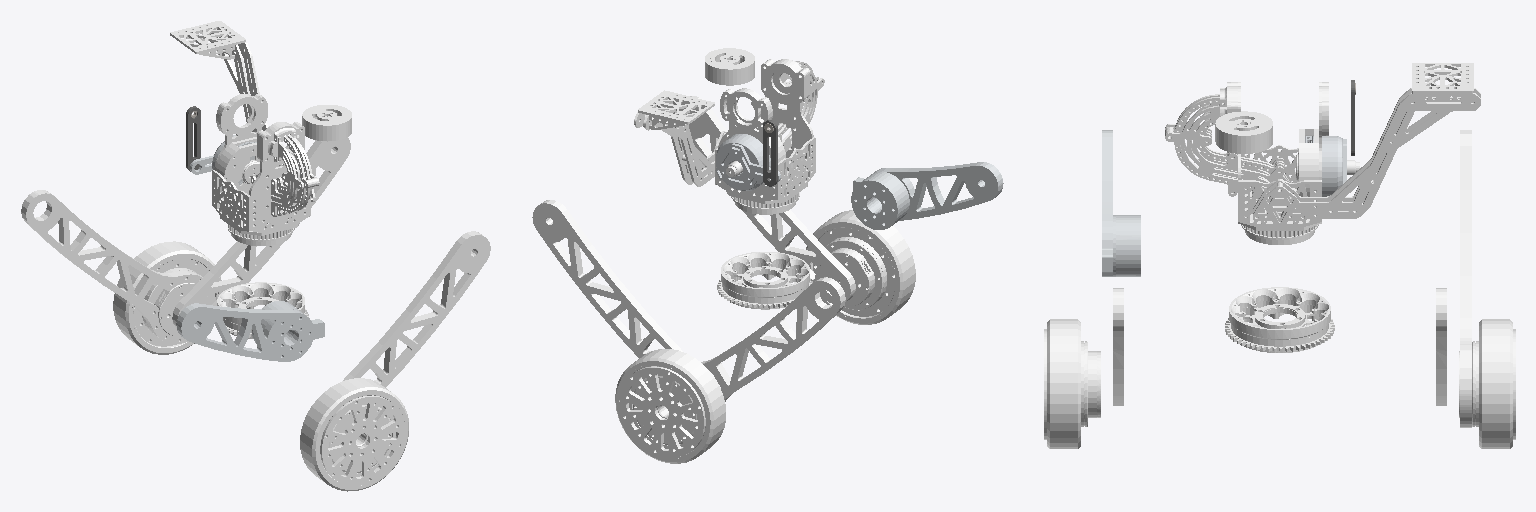
URDF robot description (RMInfantry_Complation_Vision.SLDASM):
<?xml version='1.0' encoding='utf-8'?>
<robot name="RMInfantry_Complation_Vision.SLDASM">
  <mujoco>
    <compiler meshdir="../meshes/" balanceinertia="true" discardvisual="false" />
  </mujoco>
  
  <link name="world" />
  <!-- <joint name="floating_base_joint" type="floating">
    <parent link="world" />
    <child link="base_link" />
  </joint> -->
  <joint name="world_to_base" type="fixed">
    <parent link="world"/>
    <child link="base_link"/>
    <origin xyz="0 0 0" rpy="0 0 0"/>
  </joint>
  
  <link name="base_link">
    <inertial>
      <origin xyz="-0.003111 0.0015208 0.10627" rpy="0 0 0" />
      <mass value="16.77493621" />
      <inertia ixx="0.018047" ixy="6.8169E-06" ixz="-9.2205E-06" iyy="0.05196" iyz="1.6151E-05" izz="0.05484" />
    </inertial>
    <visual>
      <origin xyz="0 0 0" rpy="0 0 0" />
      <geometry>
        <mesh filename="../meshes/base_link.STL" />
      </geometry>
      <material name="">
        <color rgba="0.50196 0.50196 0.50196 1" />
      </material>
    </visual>
    <collision>
      <origin xyz="0 0 0" rpy="0 0 0" />
      <geometry>
        <mesh filename="../meshes/base_link.STL" />
      </geometry>
    </collision>
  </link>
  <link name="left_front_hip_link">
    <inertial>
      <origin xyz="0.032281 0.032438 0.011151" rpy="0 0 0" />
      <mass value="0.25279841" />
      <inertia ixx="0.00013252" ixy="-5.8425E-19" ixz="-0.00014865" iyy="0.00064137" iyz="3.8933E-18" izz="0.00052206" />
    </inertial>
    <visual>
      <origin xyz="0 0 0" rpy="0 0 0" />
      <geometry>
        <mesh filename="../meshes/left_front_hip_link.STL" />
      </geometry>
      <material name="">
        <color rgba="0.89804 0.91373 0.92549 1" />
      </material>
    </visual>
    <collision>
      <origin xyz="0 0 0" rpy="0 0 0" />
      <geometry>
        <mesh filename="../meshes/left_front_hip_link.STL" />
      </geometry>
    </collision>
  </link>
  <joint name="left_front_hip_joint" type="continuous">
    <origin xyz="0.065 0.1423 0.127" rpy="0 0 0" />
    <parent link="base_link" />
    <child link="left_front_hip_link" />
    <axis xyz="0 1 0" />
  </joint>
  <link name="left_front_knee_link">
    <inertial>
      <origin xyz="-0.089345 0.006 -0.086713" rpy="0 0 0" />
      <mass value="0.21937234" />
      <inertia ixx="0.00085145" ixy="-3.8325E-18" ixz="-0.00087832" iyy="0.0018691" iyz="-9.3363E-21" izz="0.0010229" />
    </inertial>
    <visual>
      <origin xyz="0 0 0" rpy="0 0 0" />
      <geometry>
        <mesh filename="../meshes/left_front_knee_link.STL" />
      </geometry>
      <material name="">
        <color rgba="1 1 1 1" />
      </material>
    </visual>
    <collision>
      <origin xyz="0 0 0" rpy="0 0 0" />
      <geometry>
        <mesh filename="../meshes/left_front_knee_link.STL" />
      </geometry>
    </collision>
  </link>
  <joint name="left_front_knee_joint" type="continuous">
    <origin xyz="0.12968 0.0194 0.047199" rpy="0 0 0" />
    <parent link="left_front_hip_link" />
    <child link="left_front_knee_link" />
    <axis xyz="0 1 0" />
  </joint>
  
  
  <link name="left_rear_hip_link">
    <inertial>
      <origin xyz="-0.0369979002010859 0.0309982603546195 0.0127965807004653" rpy="0 0 0" />
      <mass value="0.25816986" />
      <inertia ixx="0.000140702499108914" ixy="3.36923885329177E-19" ixz="0.000174370684953426" iyy="0.000715454259986006" iyz="-2.87113325481111E-18" izz="0.00058595009125451" />
    </inertial>
    <visual>
      <origin xyz="0 0 0" rpy="0 0 0" />
      <geometry>
        <mesh filename="../meshes/left_rear_hip_link.STL" />
      </geometry>
      <material name="">
        <color rgba="0.898039215686275 0.913725490196078 0.925490196078431 1" />
      </material>
    </visual>
    <collision>
      <origin xyz="0 0 0" rpy="0 0 0" />
      <geometry>
        <mesh filename="../meshes/left_rear_hip_link.STL" />
      </geometry>
    </collision>
  </link>
  <joint name="left_rear_hip_joint" type="continuous">
    <origin xyz="-0.065 0.1423 0.127" rpy="0 0 0" />
    <parent link="base_link" />
    <child link="left_rear_hip_link" />
    <axis xyz="0 1 0" />
  </joint>
  <link name="left_rear_knee_link">
    <inertial>
      <origin xyz="0.10163 0.02 -0.097327" rpy="0 0 0" />
      <mass value="0.22140128" />
      <inertia ixx="0.00094302" ixy="-2.1222E-17" ixz="0.00095354" iyy="0.0021043" iyz="-1.955E-17" izz="0.0011666" />
    </inertial>
    <visual>
      <origin xyz="0 0 0" rpy="0 0 0" />
      <geometry>
        <mesh filename="../meshes/left_rear_knee_link.STL" />
      </geometry>
      <material name="">
        <color rgba="1 1 1 1" />
      </material>
    </visual>
    <collision>
      <origin xyz="0 0 0" rpy="0 0 0" />
      <geometry>
        <mesh filename="../meshes/left_rear_knee_link.STL" />
      </geometry>
    </collision>
  </link>
  <joint name="left_rear_knee_joint" type="continuous">
    <origin xyz="-0.12968 0.0309 0.047199" rpy="0 0 0" />
    <parent link="left_rear_hip_link" />
    <child link="left_rear_knee_link" />
    <axis xyz="0 1 0" />
  </joint>
  <link name="left_chassis_wheel_link">
    <inertial>
      <origin xyz="-5.5954E-06 0.036068 -3.5474E-06" rpy="0 0 0" />
      <mass value="1.24506308" />
      <inertia ixx="0.0006003" ixy="3.2833E-08" ixz="1.2544E-08" iyy="0.0011204" iyz="-2.7525E-09" izz="0.0006003" />
    </inertial>
    <visual>
      <origin xyz="0 0 0" rpy="0 0 0" />
      <geometry>
        <mesh filename="../meshes/left_chassis_wheel_link.STL" />
      </geometry>
      <material name="">
        <color rgba="1 1 1 1" />
      </material>
    </visual>
    <collision>
      <origin xyz="0 0 0" rpy="0 0 0" />
      <geometry>
        <mesh filename="../meshes/left_chassis_wheel_link.STL" />
      </geometry>
    </collision>
  </link>
  <joint name="left_chassis_wheel_joint" type="continuous">
    <origin xyz="0.19468 0.013 -0.17534" rpy="0 0 0" />
    <parent link="left_rear_knee_link" />
    <child link="left_chassis_wheel_link" />
    <axis xyz="0 1 0" />
  </joint>
  
  <link name="right_front_hip_link">
    <inertial>
      <origin xyz="0.032281 -0.032438 0.011151" rpy="0 0 0" />
      <mass value="0.25279841" />
      <inertia ixx="0.00013252" ixy="-2.9699E-18" ixz="-0.00014865" iyy="0.00064137" iyz="3.4055E-18" izz="0.00052206" />
    </inertial>
    <visual>
      <origin xyz="0 0 0" rpy="0 0 0" />
      <geometry>
        <mesh filename="../meshes/right_front_hip_link.STL" />
      </geometry>
      <material name="">
        <color rgba="1 1 1 1" />
      </material>
    </visual>
    <collision>
      <origin xyz="0 0 0" rpy="0 0 0" />
      <geometry>
        <mesh filename="../meshes/right_front_hip_link.STL" />
      </geometry>
    </collision>
  </link>
  <joint name="right_front_hip_joint" type="continuous">
    <origin xyz="0.065000010549327 -0.142300000000003 0.127000001012436" rpy="0 0 0" />
    <parent link="base_link" />
    <child link="right_front_hip_link" />
    <axis xyz="0 -1 0" />
  </joint>
  <link name="right_front_knee_link">
    <inertial>
      <origin xyz="-0.089345 -0.006 -0.086713" rpy="0 0 0" />
      <mass value="0.21937234" />
      <inertia ixx="0.00085145" ixy="1.8229E-18" ixz="-0.00087832" iyy="0.0018691" iyz="1.675E-18" izz="0.0010229" />
    </inertial>
    <visual>
      <origin xyz="0 0 0" rpy="0 0 0" />
      <geometry>
        <mesh filename="../meshes/right_front_knee_link.STL" />
      </geometry>
      <material name="">
        <color rgba="1 1 1 1" />
      </material>
    </visual>
    <collision>
      <origin xyz="0 0 0" rpy="0 0 0" />
      <geometry>
        <mesh filename="../meshes/right_front_knee_link.STL" />
      </geometry>
    </collision>
  </link>
  <joint name="right_front_knee_joint" type="continuous">
    <origin xyz="0.12968 -0.0194 0.047199" rpy="0 0 0" />
    <parent link="right_front_hip_link" />
    <child link="right_front_knee_link" />
    <axis xyz="0 -1 0" />
  </joint>
  
  
  <link name="right_rear_hip_link">
    <inertial>
      <origin xyz="-0.036998 -0.030998 0.012797" rpy="0 0 0" />
      <mass value="0.25816986" />
      <inertia ixx="0.0001407" ixy="-2.4611E-18" ixz="0.00017437" iyy="0.00071545" iyz="-1.1802E-18" izz="0.00058595" />
    </inertial>
    <visual>
      <origin xyz="0 0 0" rpy="0 0 0" />
      <geometry>
        <mesh filename="../meshes/right_rear_hip_link.STL" />
      </geometry>
      <material name="">
        <color rgba="0.89804 0.91373 0.92549 1" />
      </material>
    </visual>
    <collision>
      <origin xyz="0 0 0" rpy="0 0 0" />
      <geometry>
        <mesh filename="../meshes/right_rear_hip_link.STL" />
      </geometry>
    </collision>
  </link>
  <joint name="right_rear_hip_joint" type="continuous">
    <origin xyz="-0.065 -0.1423 0.127" rpy="0 0 0" />
    <parent link="base_link" />
    <child link="right_rear_hip_link" />
    <axis xyz="0 -1 0" />
  </joint>
  <link name="right_rear_knee_link">
    <inertial>
      <origin xyz="0.10163 -0.02 -0.097327" rpy="0 0 0" />
      <mass value="0.22140128" />
      <inertia ixx="0.00094302" ixy="-1.7521E-17" ixz="0.00095354" iyy="0.0021043" iyz="-2.4388E-17" izz="0.0011666" />
    </inertial>
    <visual>
      <origin xyz="0 0 0" rpy="0 0 0" />
      <geometry>
        <mesh filename="../meshes/right_rear_knee_link.STL" />
      </geometry>
      <material name="">
        <color rgba="1 1 1 1" />
      </material>
    </visual>
    <collision>
      <origin xyz="0 0 0" rpy="0 0 0" />
      <geometry>
        <mesh filename="../meshes/right_rear_knee_link.STL" />
      </geometry>
    </collision>
  </link>
  <joint name="right_rear_knee_joint" type="continuous">
    <origin xyz="-0.12968 -0.0309 0.047199" rpy="0 0 0" />
    <parent link="right_rear_hip_link" />
    <child link="right_rear_knee_link" />
    <axis xyz="0 -1 0" />
  </joint>
  <link name="right_chassis_wheel_link">
    <inertial>
      <origin xyz="1.7764E-06 -0.036068 6.3825E-06" rpy="0 0 0" />
      <mass value="1.24506308" />
      <inertia ixx="0.00060029" ixy="-1.2136E-08" ixz="8.6961E-09" iyy="0.0011204" iyz="3.0631E-08" izz="0.00060031" />
    </inertial>
    <visual>
      <origin xyz="0 0 0" rpy="0 0 0" />
      <geometry>
        <mesh filename="../meshes/right_chassis_wheel_link.STL" />
      </geometry>
      <material name="">
        <color rgba="1 1 1 1" />
      </material>
    </visual>
    <collision>
      <origin xyz="0 0 0" rpy="0 0 0" />
      <geometry>
        <mesh filename="../meshes/right_chassis_wheel_link.STL" />
      </geometry>
    </collision>
  </link>
  <joint name="right_chassis_wheel_joint" type="continuous">
    <origin xyz="0.19468 -0.013 -0.17534" rpy="0 0 0" />
    <parent link="right_rear_knee_link" />
    <child link="right_chassis_wheel_link" />
    <axis xyz="0 -1 0" />
  </joint>
  
  <link name="gimbal_yaw_link">
    <inertial>
      <origin xyz="0.0063949 0.01356 0.072584" rpy="0 0 0" />
      <mass value="0.70223299" />
      <inertia ixx="0.0011712" ixy="3.0488E-07" ixz="1.7288E-07" iyy="0.00075986" iyz="-0.00018026" izz="0.00081056" />
    </inertial>
    <visual>
      <origin xyz="0 0 0" rpy="0 0 0" />
      <geometry>
        <mesh filename="../meshes/gimbal_yaw_link.STL" />
      </geometry>
      <material name="">
        <color rgba="1 1 1 1" />
      </material>
    </visual>
    <collision>
      <origin xyz="0 0 0" rpy="0 0 0" />
      <geometry>
        <mesh filename="../meshes/gimbal_yaw_link.STL" />
      </geometry>
    </collision>
  </link>
  <joint name="gimbal_yaw_joint" type="continuous">
    <origin xyz="0 0 0.179" rpy="0 0 0" />
    <parent link="base_link" />
    <child link="gimbal_yaw_link" />
    <axis xyz="0 0 1" />
  </joint>
  <link name="gimbal_pitch_motor_link">
    <inertial>
      <origin xyz="-0.00079938 0.00028082 -0.00010689" rpy="0 0 0" />
      <mass value="0.48928842" />
      <inertia ixx="9.5868E-05" ixy="1.2343E-08" ixz="4.6016E-08" iyy="0.00016404" iyz="-4.8477E-07" izz="0.000104" />
    </inertial>
    <visual>
      <origin xyz="0 0 0" rpy="0 0 0" />
      <geometry>
        <mesh filename="../meshes/gimbal_pitch_motor_link.STL" />
      </geometry>
      <material name="">
        <color rgba="0.89412 0.9098 0.92549 1" />
      </material>
    </visual>
    <collision>
      <origin xyz="0 0 0" rpy="0 0 0" />
      <geometry>
        <mesh filename="../meshes/gimbal_pitch_motor_link.STL" />
      </geometry>
    </collision>
  </link>
  <joint name="gimbal_pitch_motor_joint" type="continuous">
    <origin xyz="0 0.04735 0.068" rpy="0 0 0" />
    <parent link="gimbal_yaw_link" />
    <child link="gimbal_pitch_motor_link" />
    <axis xyz="0 1 0" />
  </joint>
  <link name="gimbal_pitch_motor_chrild1_link">
    <inertial>
      <origin xyz="0 0.0025 0.031929" rpy="0 0 0" />
      <mass value="0.013666" />
      <inertia ixx="7.9145E-06" ixy="1.2294E-23" ixz="1.6679E-21" iyy="8.3333E-06" iyz="1.7252E-21" izz="4.7575E-07" />
    </inertial>
    <visual>
      <origin xyz="0 0 0" rpy="0 0 0" />
      <geometry>
        <mesh filename="../meshes/gimbal_pitch_motor_chrild1_link.STL" />
      </geometry>
      <material name="">
        <color rgba="0.50196 0.50196 0.50196 1" />
      </material>
    </visual>
    <collision>
      <origin xyz="0 0 0" rpy="0 0 0" />
      <geometry>
        <mesh filename="../meshes/gimbal_pitch_motor_chrild1_link.STL" />
      </geometry>
    </collision>
  </link>
  <joint name="gimbal_pitch_motor_chrild1_joint" type="continuous">
    <origin xyz="-0.05 0.02585 0" rpy="0 0 0" />
    <parent link="gimbal_pitch_motor_link" />
    <child link="gimbal_pitch_motor_chrild1_link" />
    <axis xyz="0 1 0" />
  </joint>
  <link name="gimbal_pitch_motor_chrild2_link">
    <inertial>
      <origin xyz="-1.90125692967058E-15 0.00695454545454546 -5.55111512312578E-17" rpy="0 0 0" />
      <mass value="0.000259181393921158" />
      <inertia ixx="2.65469197905038E-09" ixy="-8.32345721873143E-25" ixz="-3.1833259621698E-25" iyy="4.62955401783886E-09" iyz="6.12280255373811E-26" izz="2.65469197905038E-09" />
    </inertial>
    <visual>
      <origin xyz="0 0 0" rpy="0 0 0" />
      <geometry>
        <mesh filename="../meshes/gimbal_pitch_motor_chrild2_link.STL" />
      </geometry>
      <material name="">
        <color rgba="0.772549019607843 0.752941176470588 0.733333333333333 1" />
      </material>
    </visual>
    <collision>
      <origin xyz="0 0 0" rpy="0 0 0" />
      <geometry>
        <mesh filename="../meshes/gimbal_pitch_motor_chrild2_link.STL" />
      </geometry>
    </collision>
  </link>
  <joint name="gimbal_pitch_motor_chrild2_joint" type="fixed">
    <origin xyz="0 -0.00285 0.067" rpy="0 0 0" />
    <parent link="gimbal_pitch_motor_chrild1_link" />
    <child link="gimbal_pitch_motor_chrild2_link" />
    <axis xyz="0 1 0" />
  </joint>
  <link name="gimbal_pitch_link">
    <inertial>
      <origin xyz="0.00570445411307587 -0.0357202631780137 0.0241584830663755" rpy="0 0 0" />
      <mass value="2.23648116" />
      <inertia ixx="0.00113734474641569" ixy="-6.04664308296285E-06" ixz="-0.000210962920027997" iyy="0.00190756636329975" iyz="-1.26424750051048E-06" izz="0.00229904338857953" />
    </inertial>
    <visual>
      <origin xyz="0 0 0" rpy="0 0 0" />
      <geometry>
        <mesh filename="../meshes/gimbal_pitch_link.STL" />
      </geometry>
      <material name="">
        <color rgba="1 1 1 1" />
      </material>
    </visual>
    <collision>
      <origin xyz="0 0 0" rpy="0 0 0" />
      <geometry>
        <mesh filename="../meshes/gimbal_pitch_link.STL" />
      </geometry>
    </collision>
  </link>
  <joint name="gimbal_pitch_joint" type="continuous">
    <origin xyz="0 0.043 0.135" rpy="0 0 0" />
    <parent link="gimbal_yaw_link" />
    <child link="gimbal_pitch_link" />
    <axis xyz="0 1 0" />
  </joint>
  <link name="left_frition_wheel_link">
    <inertial>
      <origin xyz="-4.85722573273506E-16 -4.92661467177413E-16 -0.00963369941828784" rpy="0 0 0" />
      <mass value="0.0352426065326721" />
      <inertia ixx="1.22538290554149E-05" ixy="3.2156776745501E-08" ixz="2.05157400208698E-20" iyy="1.21074986152895E-05" iyz="-3.31341520961207E-21" izz="2.16795499210052E-05" />
    </inertial>
    <visual>
      <origin xyz="0 0 0" rpy="0 0 0" />
      <geometry>
        <mesh filename="../meshes/left_frition_wheel_link.STL" />
      </geometry>
      <material name="">
        <color rgba="1 1 1 1" />
      </material>
    </visual>
    <collision>
      <origin xyz="0 0 0" rpy="0 0 0" />
      <geometry>
        <mesh filename="../meshes/left_frition_wheel_link.STL" />
      </geometry>
    </collision>
  </link>
  <joint name="left_frition_wheel_joint" type="continuous">
    <origin xyz="0.07 -0.006 0.0161" rpy="0 0 0" />
    <parent link="gimbal_pitch_link" />
    <child link="left_frition_wheel_link" />
    <axis xyz="0 0 1" />
  </joint>
  <link name="right_frition_wheel_link">
    <inertial>
      <origin xyz="-5.13478148889135E-16 -4.85722573273506E-16 -0.0096336994182879" rpy="0 0 0" />
      <mass value="0.0352426065326721" />
      <inertia ixx="1.22538290554149E-05" ixy="3.21567767455035E-08" ixz="1.99356379167021E-20" iyy="1.21074986152895E-05" iyz="-5.55703725238919E-21" izz="2.16795499210052E-05" />
    </inertial>
    <visual>
      <origin xyz="0 0 0" rpy="0 0 0" />
      <geometry>
        <mesh filename="../meshes/right_frition_wheel_link.STL" />
      </geometry>
      <material name="">
        <color rgba="1 1 1 1" />
      </material>
    </visual>
    <collision>
      <origin xyz="0 0 0" rpy="0 0 0" />
      <geometry>
        <mesh filename="../meshes/right_frition_wheel_link.STL" />
      </geometry>
    </collision>
  </link>
  <joint name="right_frition_wheel_joint" type="continuous">
    <origin xyz="0.07 -0.08 0.0161" rpy="0 0 0" />
    <parent link="gimbal_pitch_link" />
    <child link="right_frition_wheel_link" />
    <axis xyz="0 0 1" />
  </joint>
  
  <link name="feeder_desk_link">
    <inertial>
      <origin xyz="1.8898E-08 -8.1704E-09 -0.0047462" rpy="0 0 0" />
      <mass value="0.069902" />
      <inertia ixx="7.3556E-05" ixy="5.3205E-12" ixz="1.851E-12" iyy="7.3556E-05" iyz="-2.29E-12" izz="0.00014644" />
    </inertial>
    <visual>
      <origin xyz="0 0 0" rpy="0 0 0" />
      <geometry>
        <mesh filename="../meshes/feeder_desk_link.STL" />
      </geometry>
      <material name="">
        <color rgba="1 1 1 1" />
      </material>
    </visual>
    <collision>
      <origin xyz="0 0 0" rpy="0 0 0" />
      <geometry>
        <mesh filename="../meshes/feeder_desk_link.STL" />
      </geometry>
    </collision>
  </link>
  <joint name="feeder_desk_joint" type="continuous">
    <origin xyz="0 0 0.076" rpy="0 0 0" />
    <parent link="base_link" />
    <child link="feeder_desk_link" />
    <axis xyz="0 0 1" />
  </joint>
</robot>

--- Facts derived from the render (not from the file) ---
Views: 3 orthographic renders of the robot side by side, from view 1: azimuth 30°, elevation 25°; view 2: azimuth 150°, elevation 25°; view 3: azimuth 270°, elevation 25°.
Model RMInfantry_Complation_Vision.SLDASM with 20 links and 19 joints (17 continuous, 2 fixed), rooted at world, posed all joints at 0.
Visible links, largest first — view 1: gimbal_yaw_link, right_chassis_wheel_link, left_rear_knee_link, right_rear_hip_link, right_front_knee_link, left_chassis_wheel_link, left_front_knee_link, feeder_desk_link, right_frition_wheel_link, gimbal_pitch_motor_chrild1_link; view 2: gimbal_yaw_link, left_chassis_wheel_link, right_chassis_wheel_link, right_rear_hip_link, left_front_knee_link, left_rear_knee_link, feeder_desk_link, right_front_knee_link, gimbal_pitch_motor_link, right_frition_wheel_link, gimbal_pitch_motor_chrild1_link; view 3: gimbal_yaw_link, right_chassis_wheel_link, feeder_desk_link, left_chassis_wheel_link, left_rear_knee_link, right_rear_hip_link, right_frition_wheel_link, gimbal_pitch_motor_link, left_front_knee_link, right_front_knee_link.
Link boxes in pixels (left/top/right/bottom): gimbal_yaw_link: left=170, top=21, right=319, bottom=245; right_chassis_wheel_link: left=300, top=378, right=408, bottom=491; left_rear_knee_link: left=21, top=190, right=215, bottom=343; right_rear_hip_link: left=176, top=301, right=324, bottom=361; right_front_knee_link: left=343, top=231, right=490, bottom=387; left_chassis_wheel_link: left=113, top=241, right=222, bottom=354; left_front_knee_link: left=172, top=137, right=350, bottom=327; feeder_desk_link: left=217, top=282, right=308, bottom=338; right_frition_wheel_link: left=302, top=105, right=351, bottom=141; gimbal_pitch_motor_chrild1_link: left=186, top=106, right=200, bottom=171; gimbal_yaw_link: left=634, top=59, right=824, bottom=214; left_chassis_wheel_link: left=615, top=349, right=725, bottom=463; right_chassis_wheel_link: left=805, top=210, right=915, bottom=324; right_rear_hip_link: left=851, top=162, right=1003, bottom=229; left_front_knee_link: left=532, top=200, right=682, bottom=357; left_rear_knee_link: left=701, top=277, right=845, bottom=401; feeder_desk_link: left=717, top=252, right=812, bottom=309; right_front_knee_link: left=683, top=96, right=855, bottom=303; gimbal_pitch_motor_link: left=715, top=134, right=780, bottom=190; right_frition_wheel_link: left=705, top=48, right=754, bottom=85; gimbal_pitch_motor_chrild1_link: left=763, top=120, right=777, bottom=186; gimbal_yaw_link: left=1165, top=63, right=1480, bottom=244; right_chassis_wheel_link: left=1044, top=319, right=1100, bottom=448; feeder_desk_link: left=1225, top=287, right=1334, bottom=352; left_chassis_wheel_link: left=1459, top=319, right=1515, bottom=448; left_rear_knee_link: left=1460, top=130, right=1471, bottom=427; right_rear_hip_link: left=1102, top=130, right=1140, bottom=276; right_frition_wheel_link: left=1215, top=111, right=1272, bottom=153; gimbal_pitch_motor_link: left=1305, top=136, right=1346, bottom=196; left_front_knee_link: left=1436, top=288, right=1446, bottom=405; right_front_knee_link: left=1113, top=288, right=1123, bottom=405.
Bounding box of the posed robot: 0.4354 × 0.4888 × 0.4306 m (x, y, z).
12 mesh visuals loaded from 19 distinct referenced files (12 binary STL); not drawn: 7 (reference not matched to a file when rendering).
